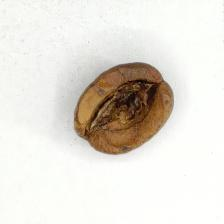NG: (89, 73, 161, 132)
